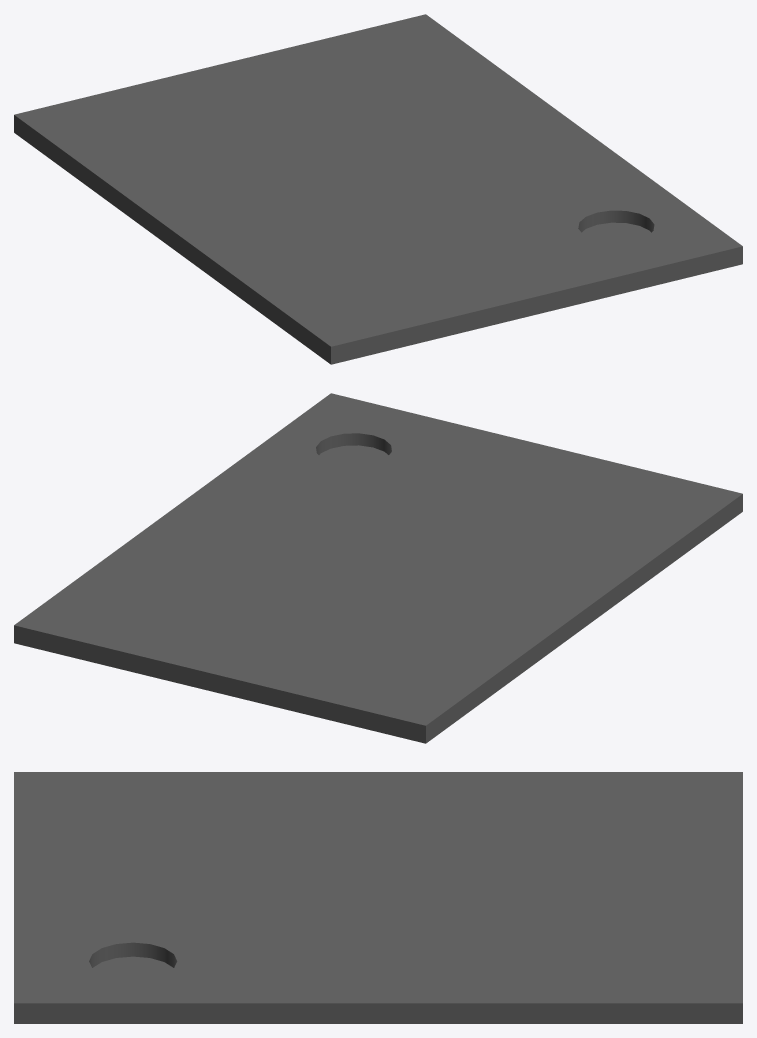
Rendered from floor_5.fbx.
3 renders of one model, top to bottom at view 1: azimuth 30°, elevation 25°; view 2: azimuth 150°, elevation 25°; view 3: azimuth 270°, elevation 25°, orthographic. The views are drawn at different scales.
Parts seen in each view (by area): view 1: m5; view 2: m5; view 3: m5.
Boxes of the visible parts, x1,y1,x2,y2 form: m5: [14, 14, 742, 364]; m5: [14, 393, 742, 743]; m5: [14, 772, 742, 1023].
Size of the model in its own units: 2400 by 100 by 3200.
1 material, 1 textured.
